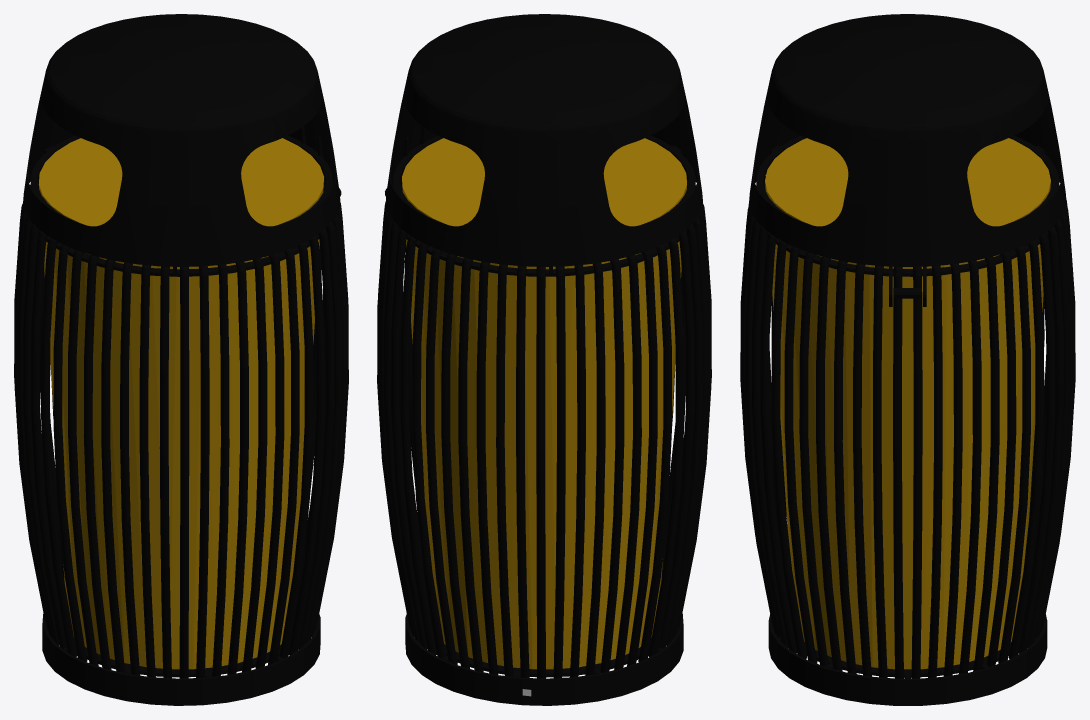
3 renders of one model, left to right at view 1: azimuth 30°, elevation 25°; view 2: azimuth 150°, elevation 25°; view 3: azimuth 270°, elevation 25°, orthographic.
Parts seen in each view (by area): view 1: mesh43.002_mesh43-geometry, mesh28.002_mesh28-geometry, mesh26.002_mesh26-geometry, mesh1.096_mesh1-geometry, mesh1.054_mesh1-geometry, mesh1.095_mesh1-geometry, mesh1.092_mesh1-geometry, mesh1.063_mesh1-geometry, mesh1.062_mesh1-geometry, mesh1.093_mesh1-geometry, mesh1.059_mesh1-geometry, mesh1.053_mesh1-geometry (+21 smaller); view 2: mesh43.002_mesh43-geometry, mesh28.002_mesh28-geometry, mesh26.002_mesh26-geometry, mesh1.085_mesh1-geometry, mesh1.091_mesh1-geometry, mesh1.077_mesh1-geometry, mesh1.081_mesh1-geometry, mesh1.089_mesh1-geometry, mesh1.080_mesh1-geometry, mesh1.088_mesh1-geometry, mesh1.082_mesh1-geometry, mesh1.078_mesh1-geometry (+21 smaller); view 3: mesh43.002_mesh43-geometry, mesh28.002_mesh28-geometry, mesh26.002_mesh26-geometry, mesh1.097_mesh1-geometry, mesh1.076_mesh1-geometry, mesh1.073_mesh1-geometry, mesh1.072_mesh1-geometry, mesh1.096_mesh1-geometry, mesh1.098_mesh1-geometry, mesh1.099_mesh1-geometry, mesh1.077_mesh1-geometry, mesh1.069_mesh1-geometry (+20 smaller).
Part boxes in pixels (x1,y1,x2,y2): mesh43.002_mesh43-geometry: (38,138,324,669); mesh28.002_mesh28-geometry: (23,14,340,266); mesh26.002_mesh26-geometry: (42,613,320,705); mesh1.096_mesh1-geometry: (288,236,325,655); mesh1.054_mesh1-geometry: (101,259,124,672); mesh1.095_mesh1-geometry: (279,242,313,658); mesh1.092_mesh1-geometry: (242,258,267,672); mesh1.063_mesh1-geometry: (53,244,87,661); mesh1.062_mesh1-geometry: (41,238,77,656); mesh1.093_mesh1-geometry: (255,253,284,668); mesh1.059_mesh1-geometry: (196,266,209,677); mesh1.053_mesh1-geometry: (83,255,111,669); mesh43.002_mesh43-geometry: (402,138,686,669); mesh28.002_mesh28-geometry: (385,14,702,266); mesh26.002_mesh26-geometry: (405,613,683,705); mesh1.085_mesh1-geometry: (536,266,545,678); mesh1.091_mesh1-geometry: (648,238,684,656); mesh1.077_mesh1-geometry: (400,235,436,654); mesh1.081_mesh1-geometry: (458,257,483,672); mesh1.089_mesh1-geometry: (600,259,624,672); mesh1.080_mesh1-geometry: (441,253,469,668); mesh1.088_mesh1-geometry: (585,262,605,675); mesh1.082_mesh1-geometry: (476,261,498,674); mesh1.078_mesh1-geometry: (412,242,446,658); mesh43.002_mesh43-geometry: (765,138,1050,669); mesh28.002_mesh28-geometry: (749,14,1066,266); mesh26.002_mesh26-geometry: (768,614,1047,705); mesh1.097_mesh1-geometry: (771,240,806,658); mesh1.076_mesh1-geometry: (1008,240,1044,658); mesh1.073_mesh1-geometry: (973,256,999,671); mesh1.072_mesh1-geometry: (959,260,981,674); mesh1.096_mesh1-geometry: (760,233,796,653); mesh1.098_mesh1-geometry: (784,246,817,663); mesh1.099_mesh1-geometry: (799,252,828,667); mesh1.077_mesh1-geometry: (1018,233,1055,653); mesh1.069_mesh1-geometry: (911,266,922,678).
Bounding box in the file's own units: 0.42 × 0.8082 × 0.4128.
